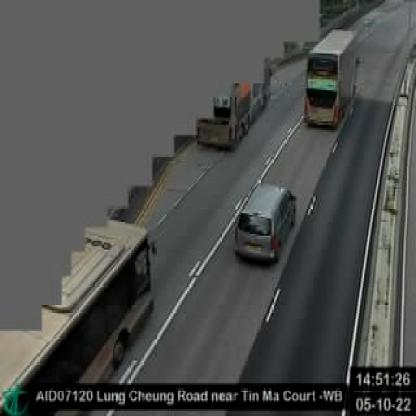Bus: (1, 218, 147, 409), (306, 28, 358, 123)
Car: (234, 184, 294, 258)
